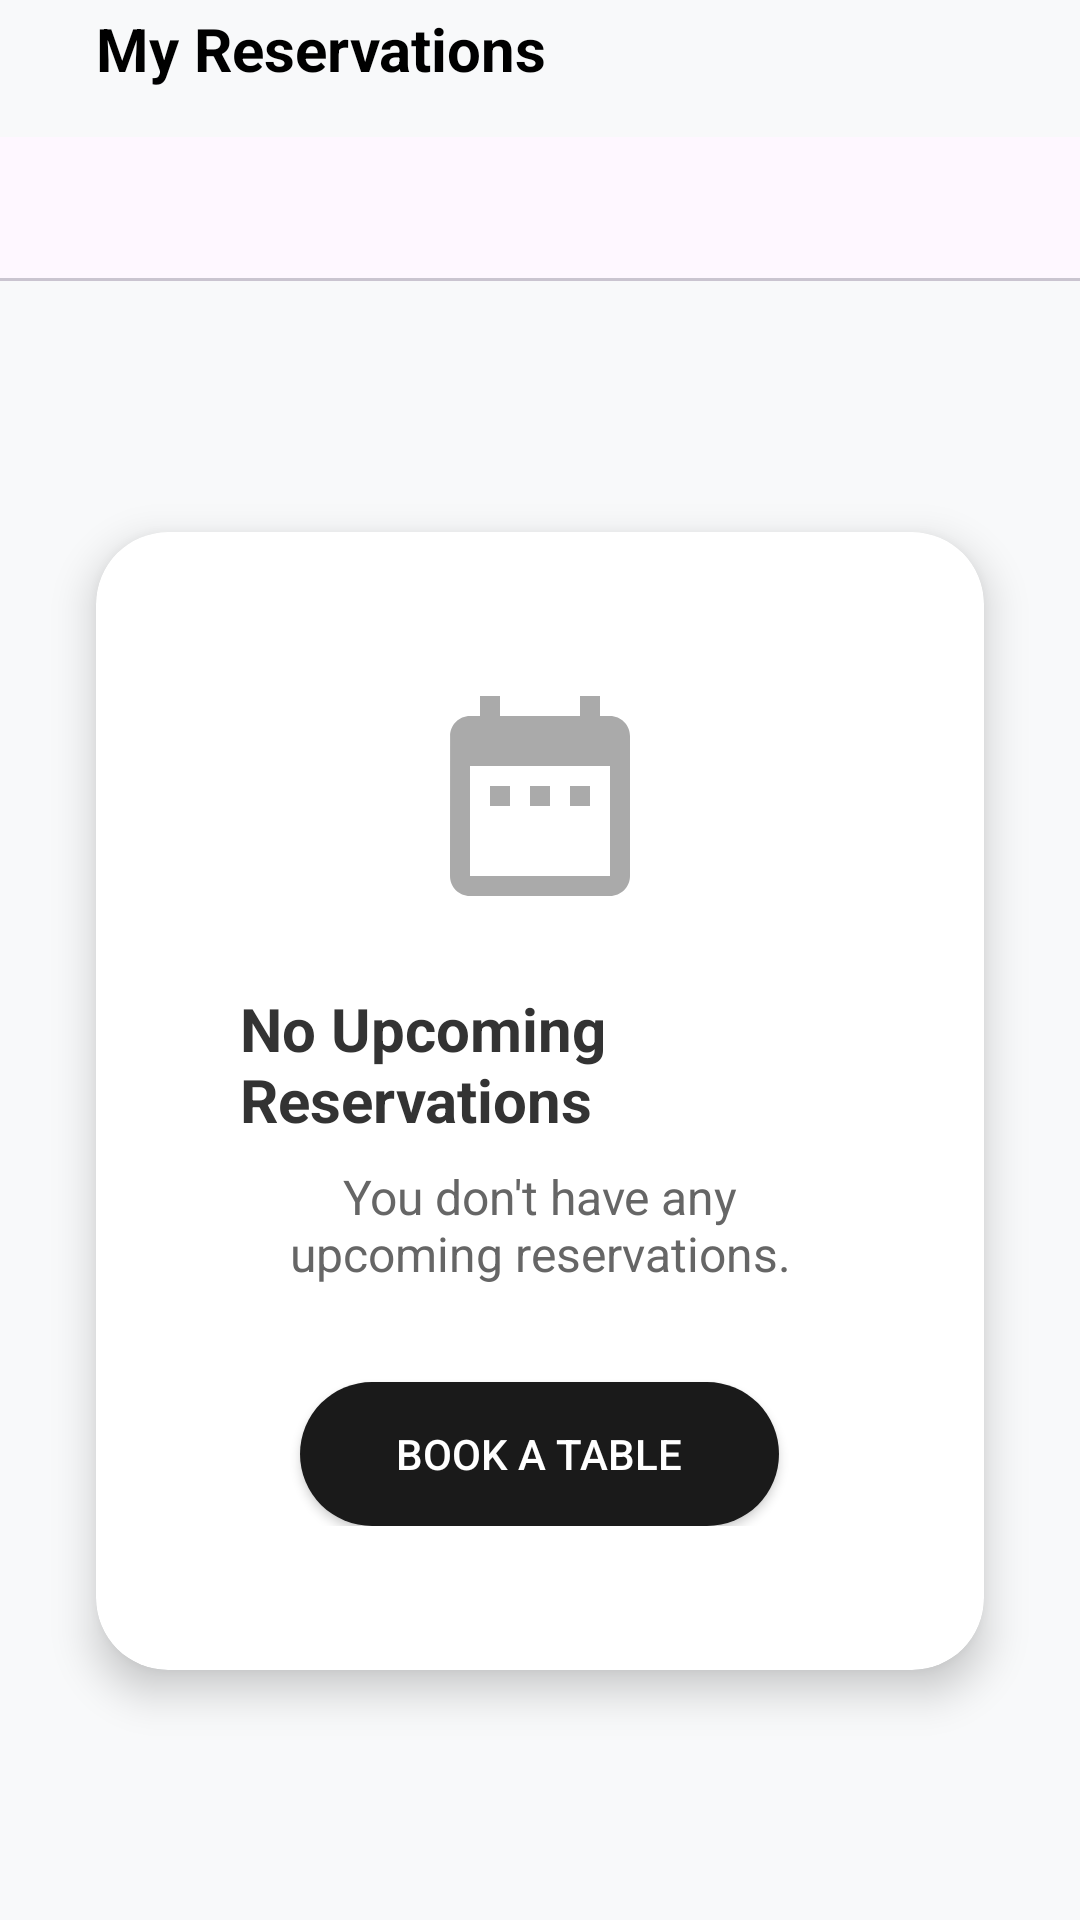

Icons on this 1080x1920 Android screen, each with the point to tap as point (x, y):
calendar: point (540, 796)
